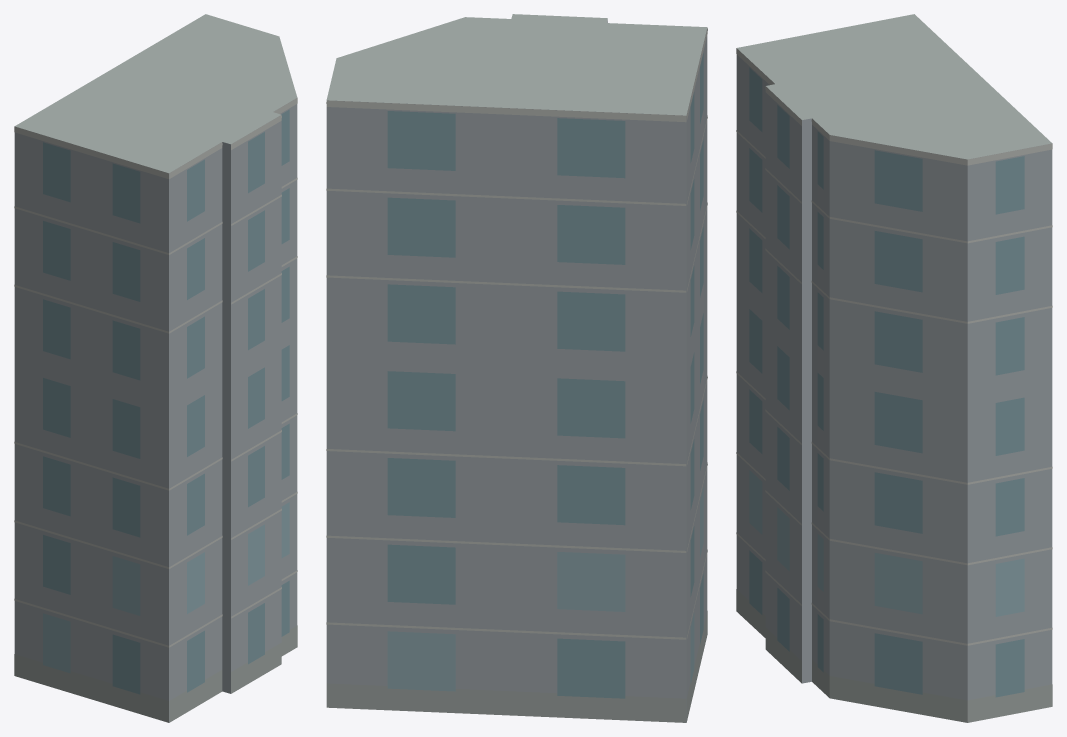
File: survey-upis-32793714.glb
3 renders of one model, left to right at view 1: azimuth 30°, elevation 25°; view 2: azimuth 150°, elevation 25°; view 3: azimuth 270°, elevation 25°, orthographic. The views are drawn at different scales.
Parts seen in each view (by area): view 1: survey-upis-32793714.tmp; view 2: survey-upis-32793714.tmp; view 3: survey-upis-32793714.tmp.
Part boxes in pixels (<box>): survey-upis-32793714.tmp: <box>14,14,297,722</box>; survey-upis-32793714.tmp: <box>326,14,707,722</box>; survey-upis-32793714.tmp: <box>736,14,1052,722</box>.
Size of the model in its own units: 12.43 by 22.4 by 11.41.
